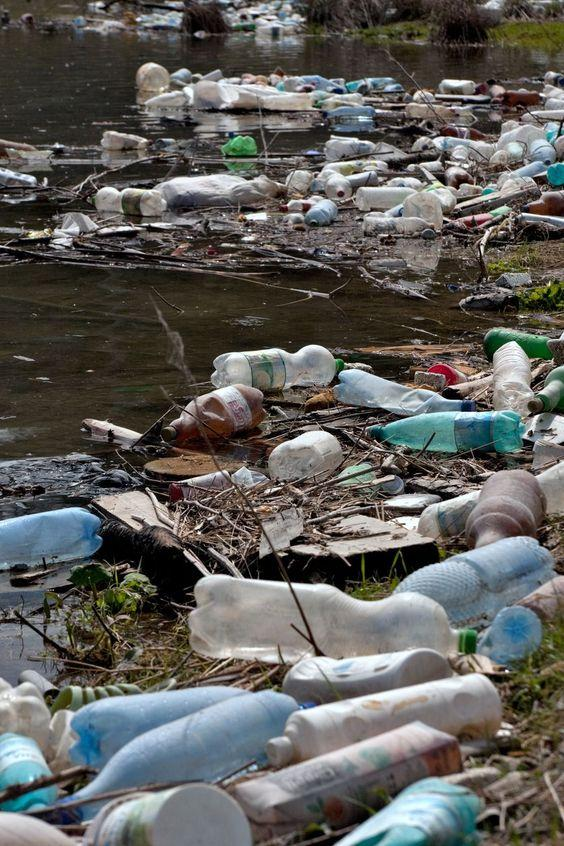HDPE: (265, 427, 346, 486), (265, 735, 296, 771), (459, 626, 479, 657), (458, 397, 477, 413), (368, 425, 383, 442), (336, 357, 346, 374)
PETE: (187, 574, 458, 667), (62, 685, 287, 795), (284, 670, 504, 764), (386, 532, 557, 627), (0, 506, 107, 573), (330, 364, 462, 416), (381, 410, 528, 453), (208, 344, 335, 392), (472, 603, 546, 666), (491, 341, 535, 420)
